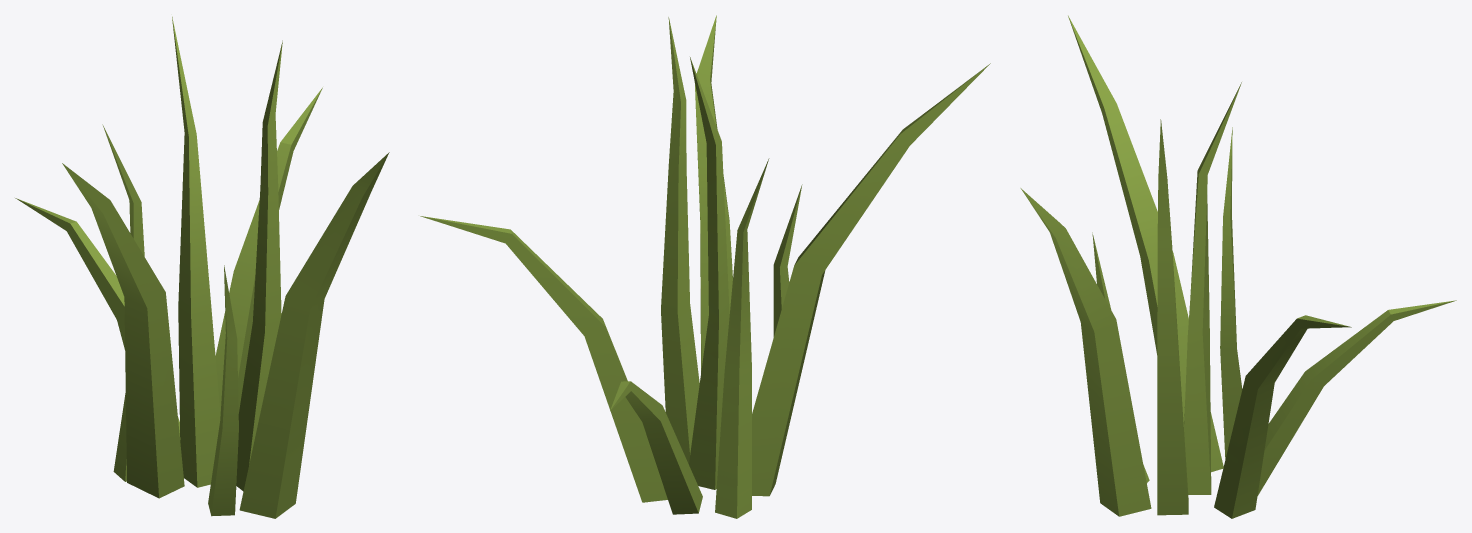
Rendered from Spring_Grass_03.glb.
3 views of the same model, side by side, from view 1: azimuth 30°, elevation 25°; view 2: azimuth 150°, elevation 25°; view 3: azimuth 270°, elevation 25° (orthographic). The views are drawn at different scales.
Parts seen in each view (by area): view 1: Spring_Grass_03_LOD0; view 2: Spring_Grass_03_LOD0; view 3: Spring_Grass_03_LOD0.
Part boxes in pixels (x1,y1,x2,y2): Spring_Grass_03_LOD0: (15, 16, 389, 518); Spring_Grass_03_LOD0: (420, 15, 990, 518); Spring_Grass_03_LOD0: (1020, 15, 1456, 518).
Size of what is drawn, in the model's own units: 0.4174 by 0.4367 by 0.4167.
Materials: 1 (1 with a texture image).
